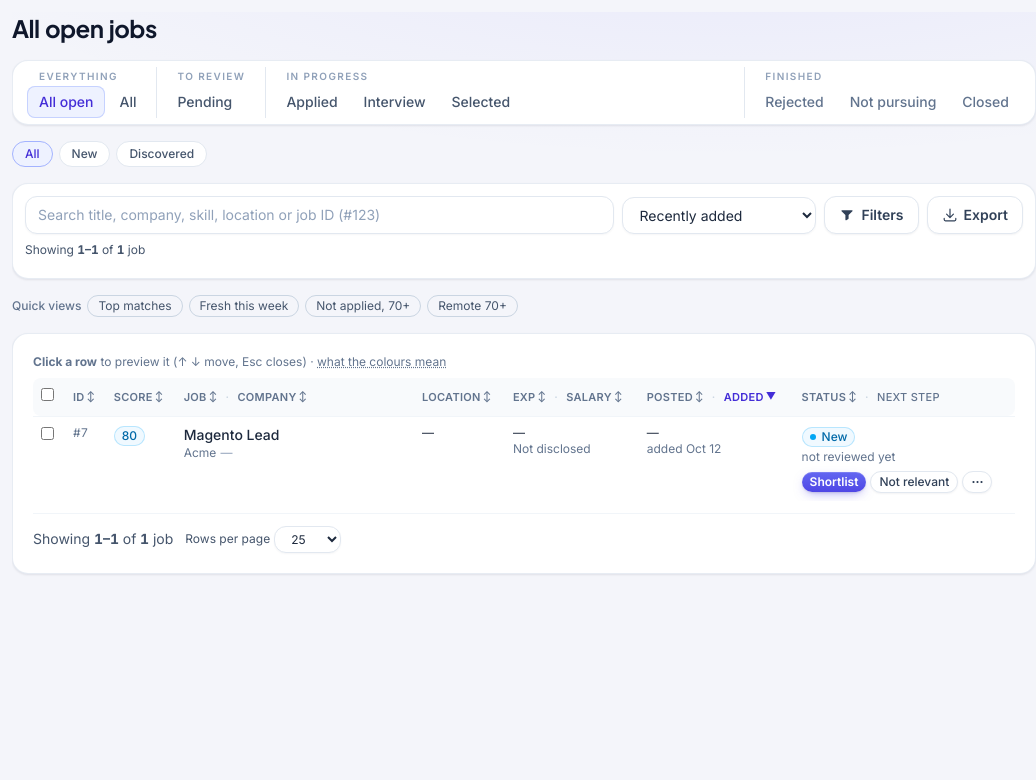
sorting and page size › sorts by clicking column headers and shows 25 per page by default
Expected: the link "Magento Lead" is shown, [184,426,280,442]
Click the button with aria-label "Sort by posted" at (675, 397), box [647,388,704,405]
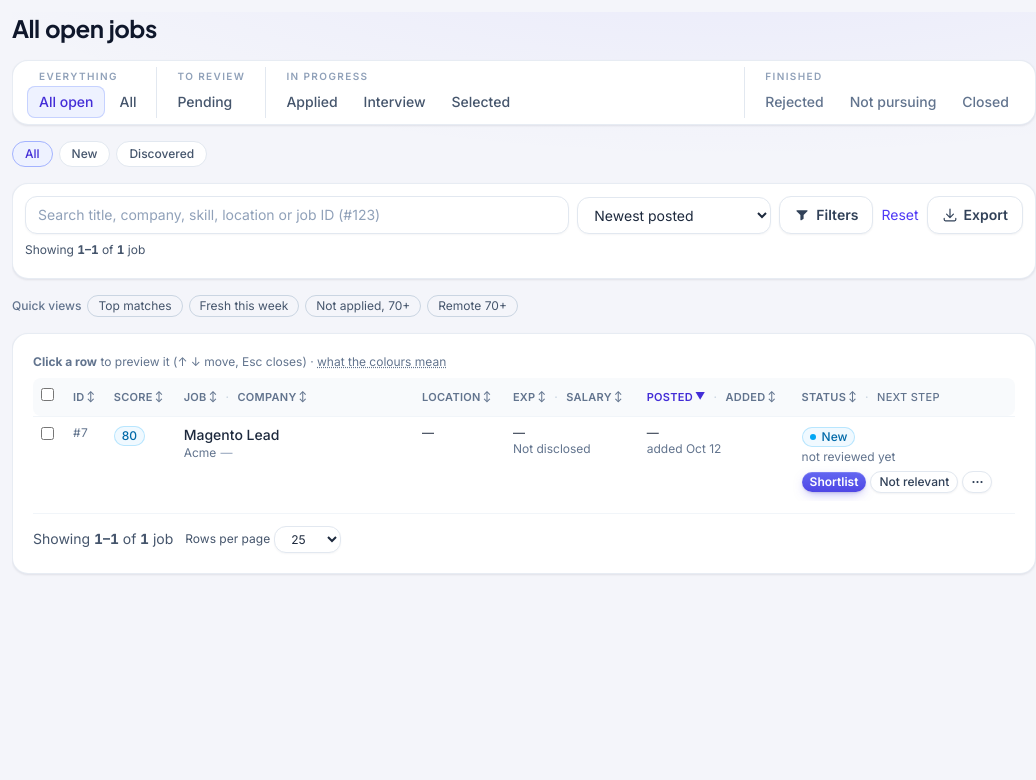
Click the button with aria-label "Sort by posted" at (676, 397), box [647,388,706,405]
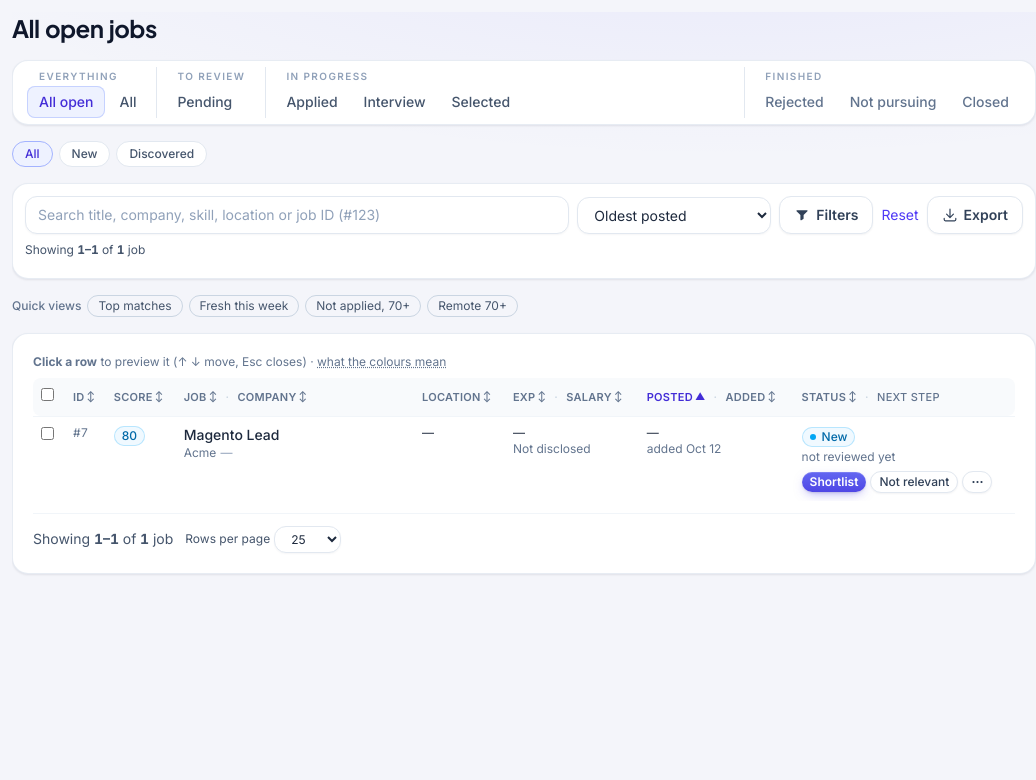
Expected: the column heading "Posted ▲ · Added ↕" has attribute aria-sort="ascending", [639,378,794,416]
Click the button with aria-label "Sort by company" at (272, 397), box [238,388,307,405]
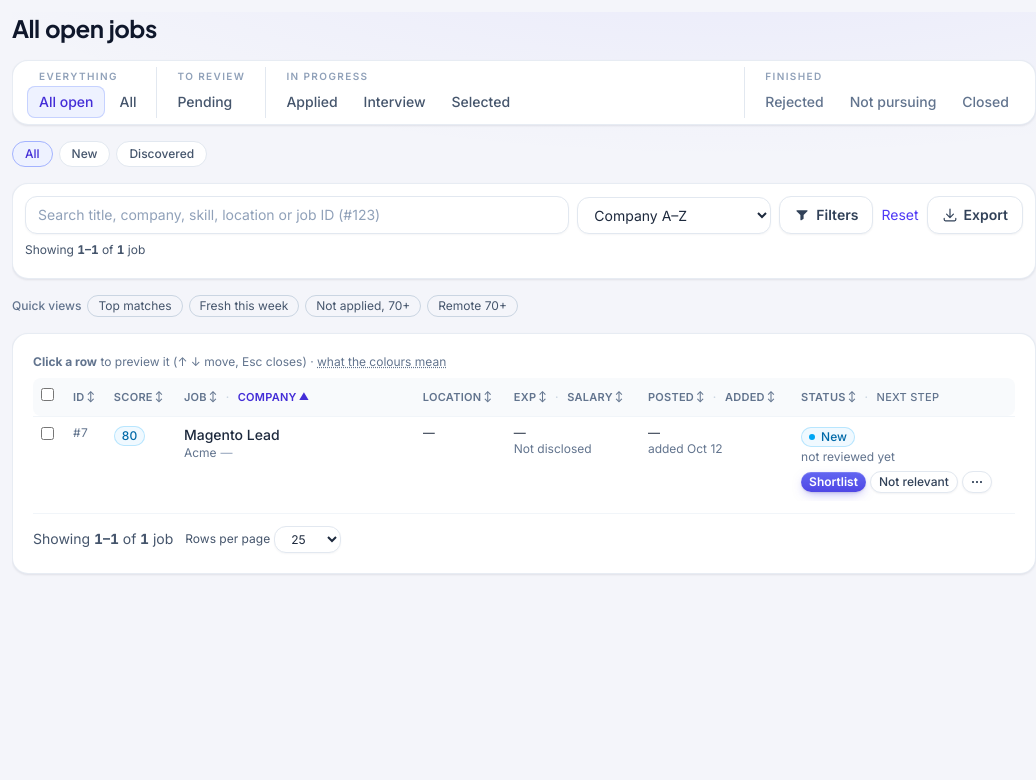
Expected: the dropdown named "Sort" shows "Company A–Z", [577,196,771,234]
